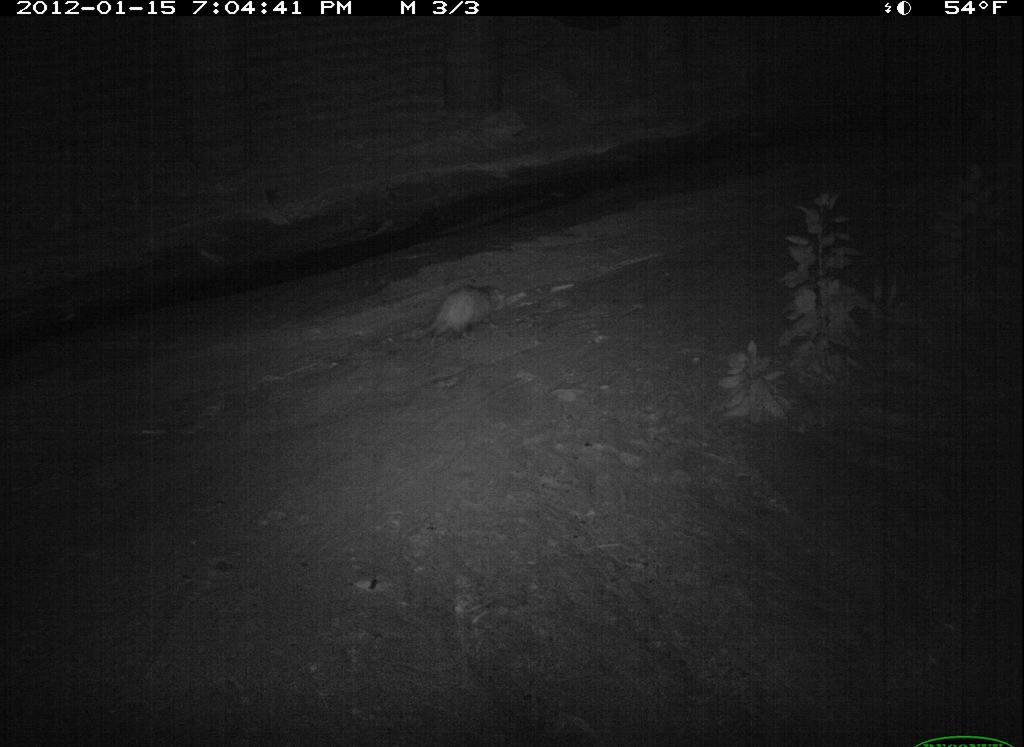opossum: (401, 272, 519, 349)
